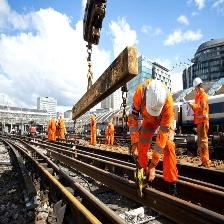Person: (129, 79, 178, 194), (191, 72, 211, 165), (89, 110, 99, 150), (58, 111, 68, 145), (108, 120, 115, 147)
helmet: (145, 80, 166, 117), (194, 74, 204, 90), (93, 112, 96, 117)
vest: (194, 93, 210, 121), (91, 117, 97, 128), (109, 123, 114, 133)
